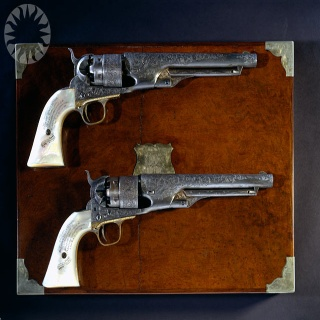pistol: (27, 47, 263, 167), (41, 169, 274, 289)
